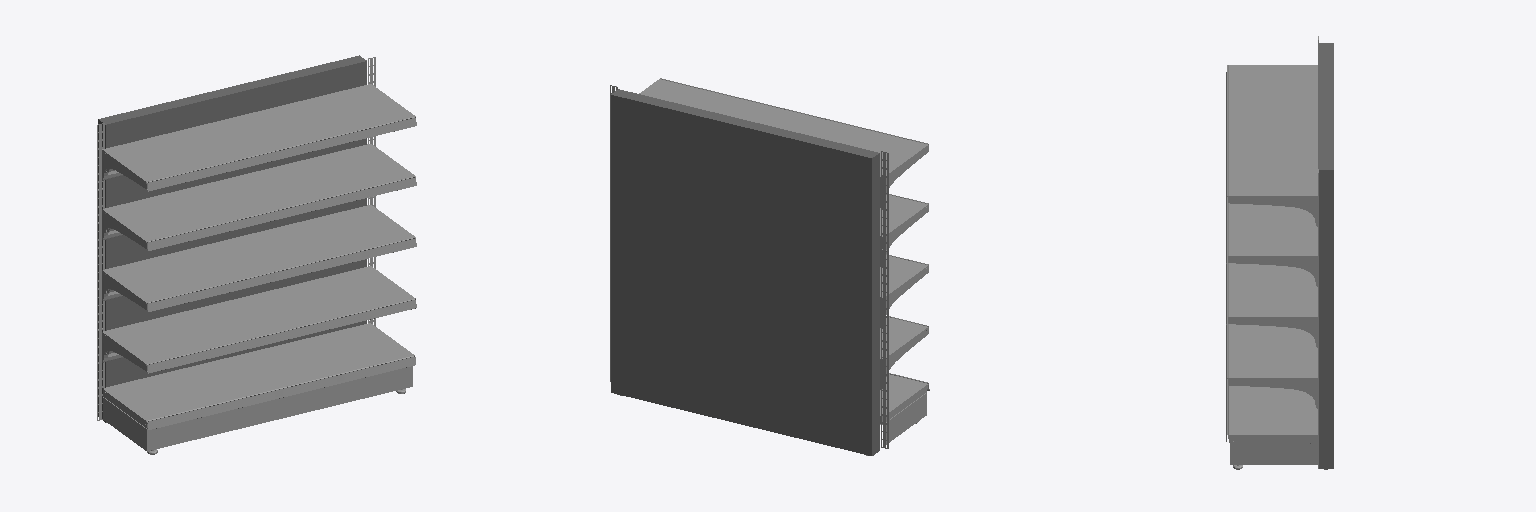
Rendered from shelf2.obj.
The picture shows the model from 3 angles: view 1: azimuth 30°, elevation 25°; view 2: azimuth 150°, elevation 25°; view 3: azimuth 270°, elevation 25°; orthographic projection.
Visible parts, largest first — view 1: Box017.001_Box017.002, Plane14.001_Plane14, Plane15.001_Plane15, Plane13.001_Plane13, Plane09.001_Plane09, Plane08.001_Plane08, Box02.001_Box02.002, Box26.001_Box26.002, Box22.001_Box22.002, Box24.001_Box24.002, Box27.001_Box27.002, Box20.001_Box20.002 (+6 smaller); view 2: Box017.001_Box017.002, Plane14.001_Plane14, Plane01.001_Plane01, Plane13.001_Plane13, Plane09.001_Plane09, Plane15.001_Plane15, Plane08.001_Plane08, Box02.001_Box02.002; view 3: Plane14.001_Plane14, Box017.001_Box017.002, Plane09.001_Plane09, Plane13.001_Plane13, Plane15.001_Plane15, Plane08.001_Plane08, Box02.001_Box02.002, Box25.001_Box25.002, Box23.001_Box23.002, Box28.001_Box28.002, Box21.001_Box21.002.
Boxes of the visible parts, x1=… form: Box017.001_Box017.002: x1=98, y1=55, x2=366, y2=422; Plane14.001_Plane14: x1=104, y1=85, x2=414, y2=185; Plane15.001_Plane15: x1=103, y1=145, x2=414, y2=245; Plane13.001_Plane13: x1=103, y1=206, x2=414, y2=306; Plane09.001_Plane09: x1=104, y1=267, x2=415, y2=367; Plane08.001_Plane08: x1=103, y1=324, x2=414, y2=424; Box02.001_Box02.002: x1=103, y1=366, x2=412, y2=450; Box26.001_Box26.002: x1=147, y1=117, x2=416, y2=191; Box22.001_Box22.002: x1=147, y1=299, x2=416, y2=373; Box24.001_Box24.002: x1=147, y1=238, x2=416, y2=311; Box27.001_Box27.002: x1=147, y1=177, x2=416, y2=250; Box20.001_Box20.002: x1=147, y1=356, x2=415, y2=429; Box017.001_Box017.002: x1=611, y1=89, x2=879, y2=455; Plane14.001_Plane14: x1=639, y1=79, x2=927, y2=179; Plane01.001_Plane01: x1=881, y1=151, x2=888, y2=448; Plane13.001_Plane13: x1=880, y1=255, x2=927, y2=299; Plane09.001_Plane09: x1=880, y1=317, x2=927, y2=361; Plane15.001_Plane15: x1=880, y1=195, x2=927, y2=239; Plane08.001_Plane08: x1=880, y1=374, x2=928, y2=418; Box02.001_Box02.002: x1=880, y1=393, x2=926, y2=444; Plane14.001_Plane14: x1=1229, y1=65, x2=1314, y2=200; Box017.001_Box017.002: x1=1318, y1=43, x2=1333, y2=468; Plane09.001_Plane09: x1=1229, y1=324, x2=1314, y2=382; Plane13.001_Plane13: x1=1229, y1=263, x2=1314, y2=320; Plane15.001_Plane15: x1=1229, y1=203, x2=1314, y2=259; Plane08.001_Plane08: x1=1229, y1=386, x2=1314, y2=438; Box02.001_Box02.002: x1=1230, y1=443, x2=1317, y2=464; Box25.001_Box25.002: x1=1228, y1=65, x2=1317, y2=226; Box23.001_Box23.002: x1=1228, y1=263, x2=1317, y2=347; Box28.001_Box28.002: x1=1228, y1=203, x2=1317, y2=286; Box21.001_Box21.002: x1=1228, y1=324, x2=1317, y2=408.
Size of the model in its own units: 71.15 by 73.46 by 23.61.